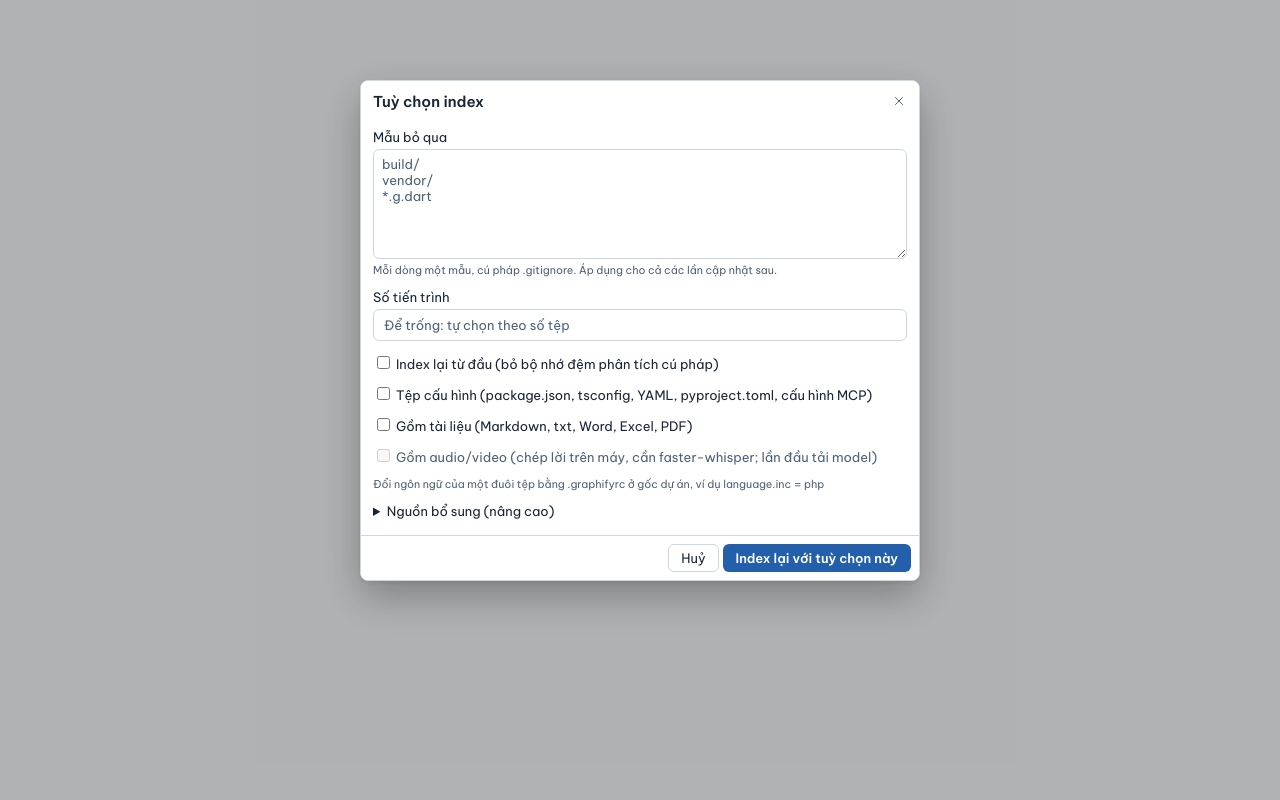
it: IndexOptionsDialog › Nguồn bổ sung (W11) › thiếu psycopg thì khoá PostgreSQL
The image size is (1280, 800).
Step 1. Click the heading "Nguồn bổ sung (nâng cao)" → point(471, 511), box [387, 503, 554, 519]
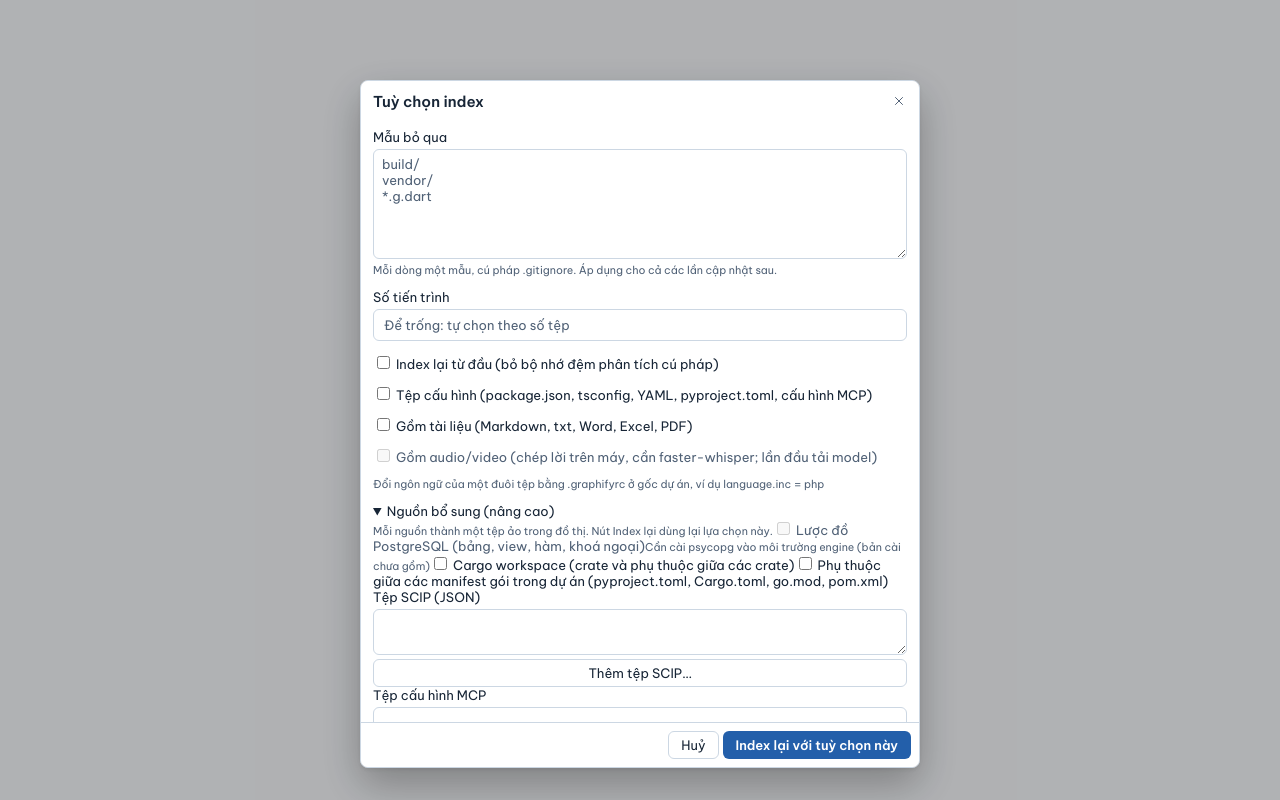
Expected: the text "Cần cài psycopg vào môi trường engine (bản cài chưa gồm)" is shown, [373, 540, 901, 573]
Expected: the checkbox labelled "Lược đồ PostgreSQL (bảng, view, hàm, khoá ngoại)" is disabled, [777, 522, 790, 535]
